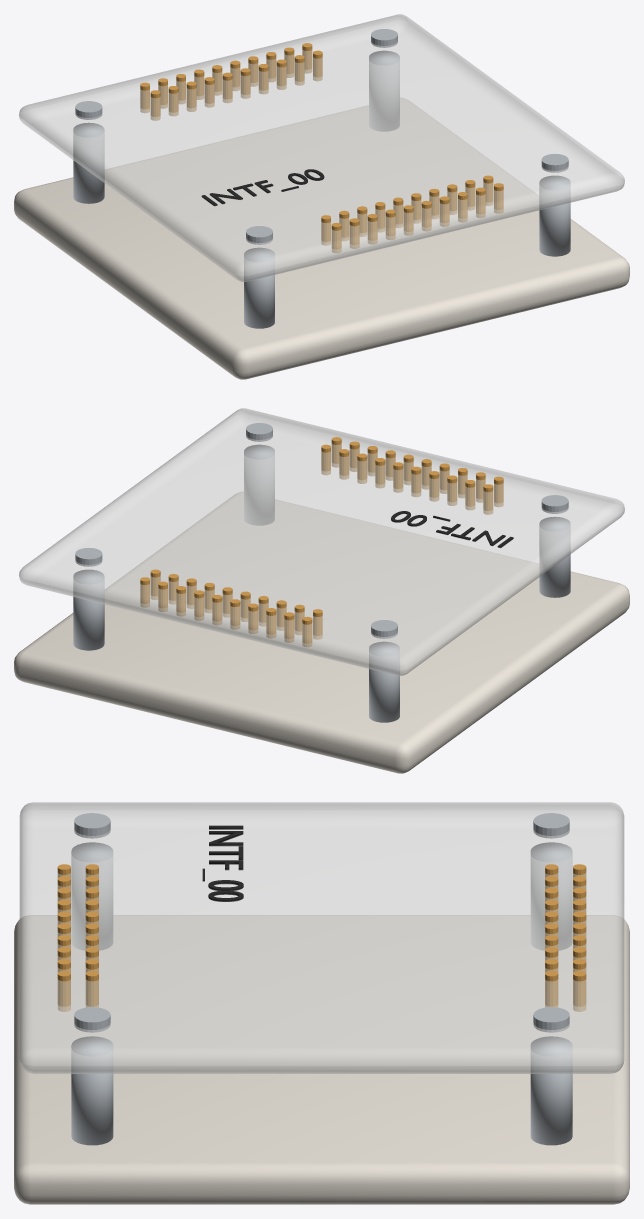
File: interface.glb
The picture shows the model from 3 angles, top to bottom: view 1: azimuth 30°, elevation 25°; view 2: azimuth 150°, elevation 25°; view 3: azimuth 270°, elevation 25°; orthographic projection. The views are drawn at different scales.
Parts seen in each view (by area): view 1: InterfaceBase, ContractGlassPlate, Standoff_1_0, Standoff_0_1, Standoff_0_0, Standoff_1_1, Label_INTF00; view 2: InterfaceBase, ContractGlassPlate, Standoff_1_1, Standoff_0_0, Standoff_0_1, Standoff_1_0, Label_INTF00; view 3: InterfaceBase, ContractGlassPlate, Standoff_1_0, Standoff_1_1, Standoff_0_0, Standoff_0_1, Label_INTF00, Cylinder.002, Cylinder.003, Cylinder, Cylinder.001, Cylinder.042 (+1 smaller).
Boxes of the visible parts, left/top/right/bottom form: InterfaceBase: left=14, top=98, right=629, bottom=379; ContractGlassPlate: left=19, top=14, right=624, bottom=281; Standoff_1_0: left=539, top=175, right=570, bottom=256; Standoff_0_1: left=73, top=122, right=104, bottom=203; Standoff_0_0: left=244, top=247, right=274, bottom=328; Standoff_1_1: left=369, top=50, right=399, bottom=131; Label_INTF00: left=201, top=169, right=324, bottom=206; InterfaceBase: left=14, top=492, right=629, bottom=773; ContractGlassPlate: left=19, top=408, right=624, bottom=675; Standoff_1_1: left=73, top=569, right=104, bottom=650; Standoff_0_0: left=539, top=516, right=570, bottom=597; Standoff_0_1: left=369, top=641, right=399, bottom=722; Standoff_1_0: left=244, top=444, right=274, bottom=525; Label_INTF00: left=391, top=511, right=513, bottom=547; InterfaceBase: left=14, top=915, right=629, bottom=1204; ContractGlassPlate: left=19, top=802, right=624, bottom=1073; Standoff_1_0: left=71, top=1036, right=113, bottom=1145; Standoff_1_1: left=530, top=1036, right=572, bottom=1145; Standoff_0_0: left=71, top=842, right=113, bottom=950; Standoff_0_1: left=530, top=842, right=572, bottom=950; Label_INTF00: left=202, top=825, right=243, bottom=901; Cylinder.002: left=74, top=1007, right=110, bottom=1032; Cylinder.003: left=533, top=1007, right=569, bottom=1032; Cylinder: left=74, top=813, right=110, bottom=838; Cylinder.001: left=533, top=813, right=569, bottom=838; Cylinder.042: left=57, top=970, right=70, bottom=1011.
Bounding box in the file's own units: 2.2 × 0.64 × 2.2.
